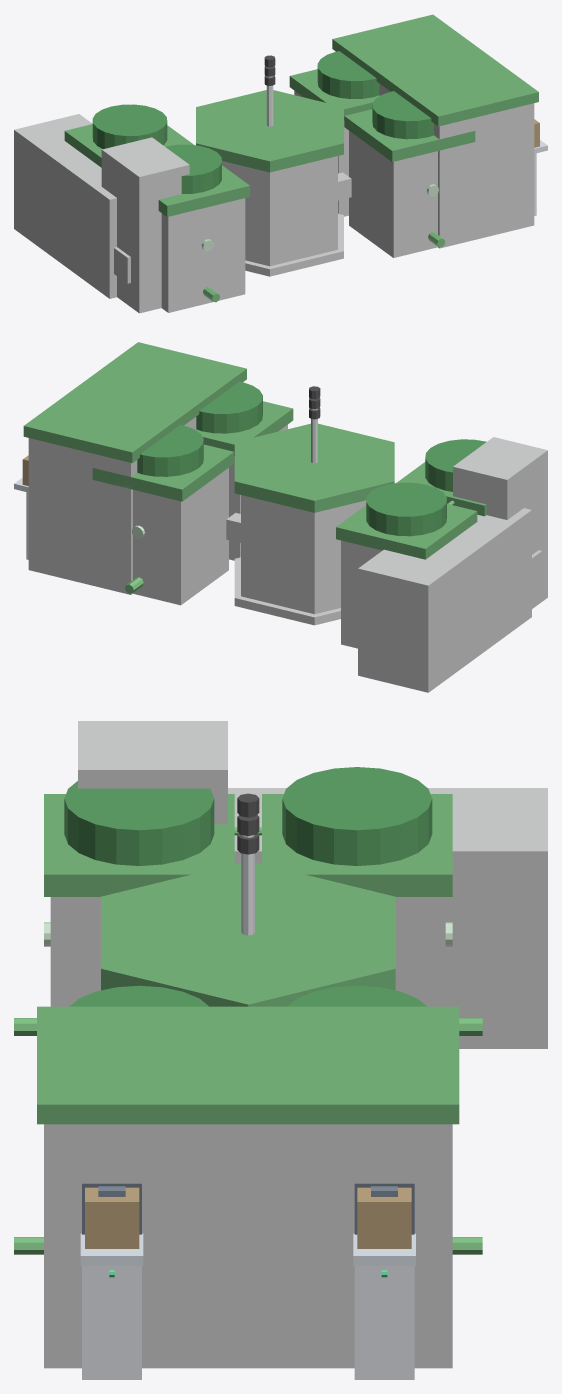
Rendered from CVD.glb.
The picture shows the model from 3 angles, top to bottom: view 1: azimuth 30°, elevation 25°; view 2: azimuth 150°, elevation 25°; view 3: azimuth 270°, elevation 25°; orthographic projection. The views are drawn at different scales.
Visible parts, largest first — view 1: p00063, p00033, p00032, p00002, p00001, p00058, p00004, p00018, p00027, p00005, p00013, p00006 (+7 smaller); view 2: p00063, p00033, p00032, p00002, p00001, p00011, p00058, p00027, p00026, p00012, p00006, p00013 (+6 smaller); view 3: p00032, p00033, p00002, p00063, p00027, p00058, p00020, p00026, p00019, p00035, p00047, p00018 (+8 smaller).
Part boxes in pixels (x1,y1,x2,y2): p00063: (14,114,116,298); p00033: (332,14,538,126); p00032: (379,83,534,248); p00002: (196,90,343,172); p00001: (222,156,337,266); p00058: (101,137,189,313); p00004: (349,131,437,257); p00018: (161,198,245,312); p00027: (92,104,167,149); p00005: (344,109,475,161); p00013: (317,51,379,98); p00006: (372,91,433,139); p00063: (358,508,531,692); p00033: (23,342,246,463); p00032: (28,417,196,594); p00002: (234,423,394,512); p00001: (241,495,366,614); p00011: (133,468,228,605); p00058: (453,437,547,608); p00027: (366,482,446,536); p00026: (336,504,477,559); p00012: (92,444,233,501); p00006: (196,381,262,433); p00013: (137,425,203,476); p00032: (44,1124,452,1368); p00033: (37,1006,459,1124); p00002: (101,862,395,1006); p00063: (228,788,547,1048); p00027: (282,767,432,865); p00058: (78,721,227,824); p00020: (64,781,214,865); p00026: (262,794,452,896); p00019: (44,794,234,896); p00035: (354,1266,414,1379); p00047: (82,1266,141,1379); p00018: (50,897,100,1006).
Bounding box in the file's own units: 7.03 × 2.95 × 3.92.
